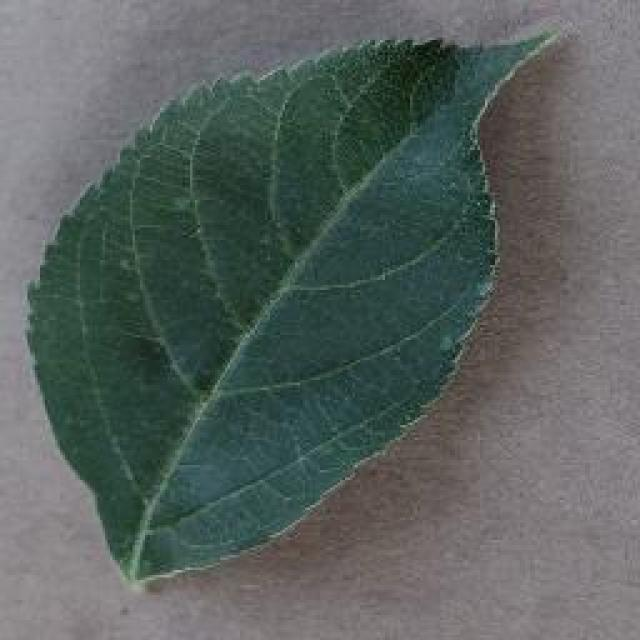apple healthy: (22, 22, 568, 588)
